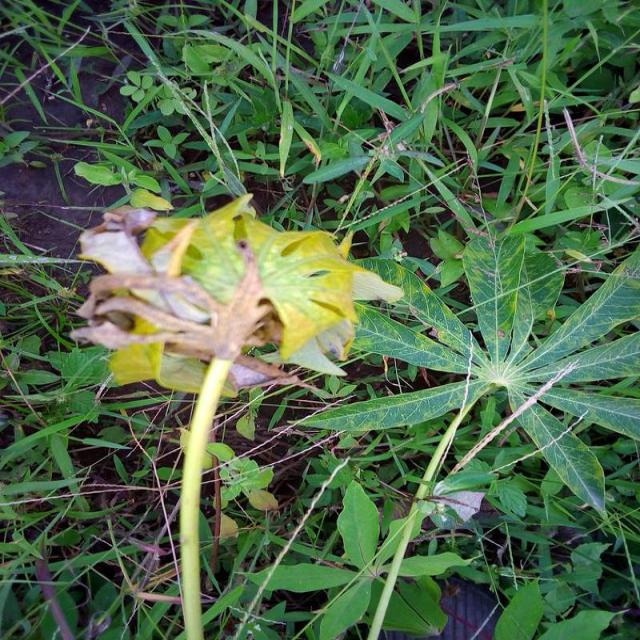cassava leaf: (72, 190, 405, 398)
